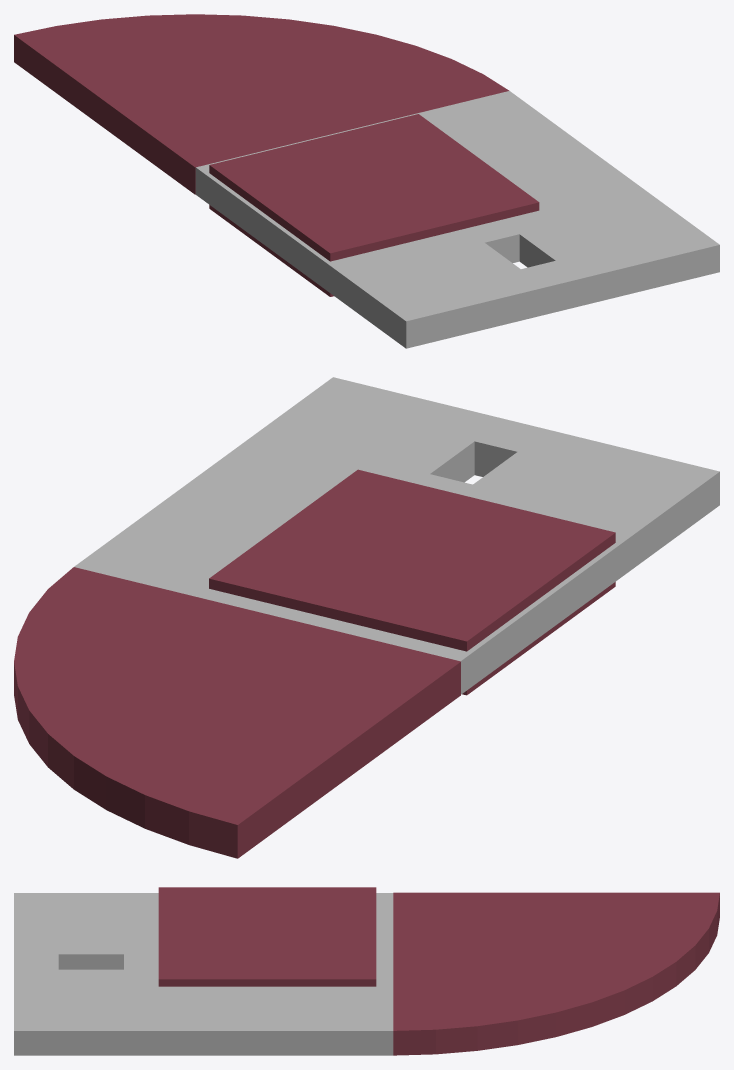
File: Keycard.fbx
3 views of the same model, one above another, from view 1: azimuth 30°, elevation 25°; view 2: azimuth 150°, elevation 25°; view 3: azimuth 270°, elevation 25° (orthographic). The views are drawn at different scales.
Parts seen in each view (by area): view 1: Plane; view 2: Plane; view 3: Plane.
Boxes of the visible parts, bbox=[...] form: Plane: bbox=[14, 14, 719, 348]; Plane: bbox=[14, 377, 719, 858]; Plane: bbox=[14, 887, 719, 1055].
Bounding box in the file's own units: 0.3606 × 0.7782 × 0.048.
